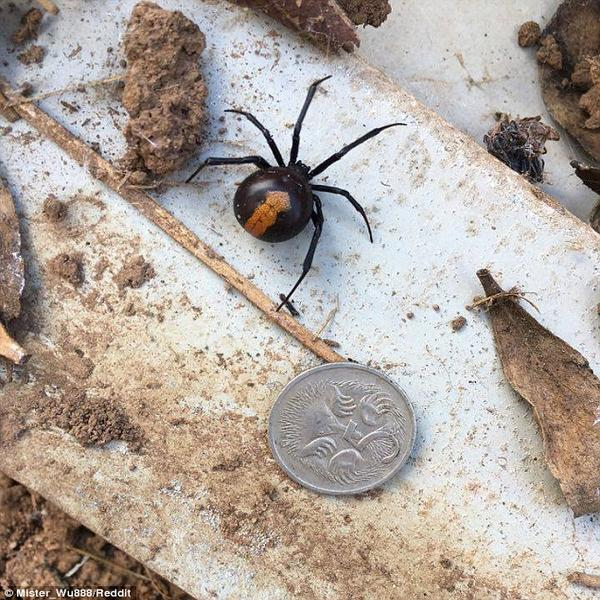Redback Spider: (189, 75, 407, 297)
